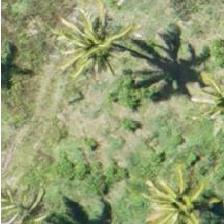coconut_tree: (72, 5, 162, 95), (0, 170, 88, 223), (145, 167, 223, 223)
